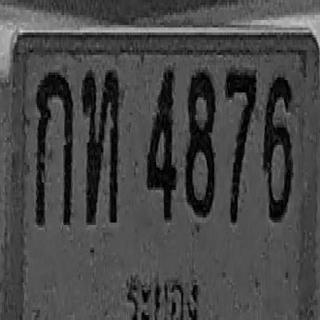A01: (35, 70, 73, 225)
A23: (82, 69, 120, 224)
N04: (147, 68, 176, 220)
N06: (263, 74, 293, 221)
N07: (225, 70, 256, 222)
N08: (185, 69, 215, 216)
P53: (124, 260, 203, 320)
